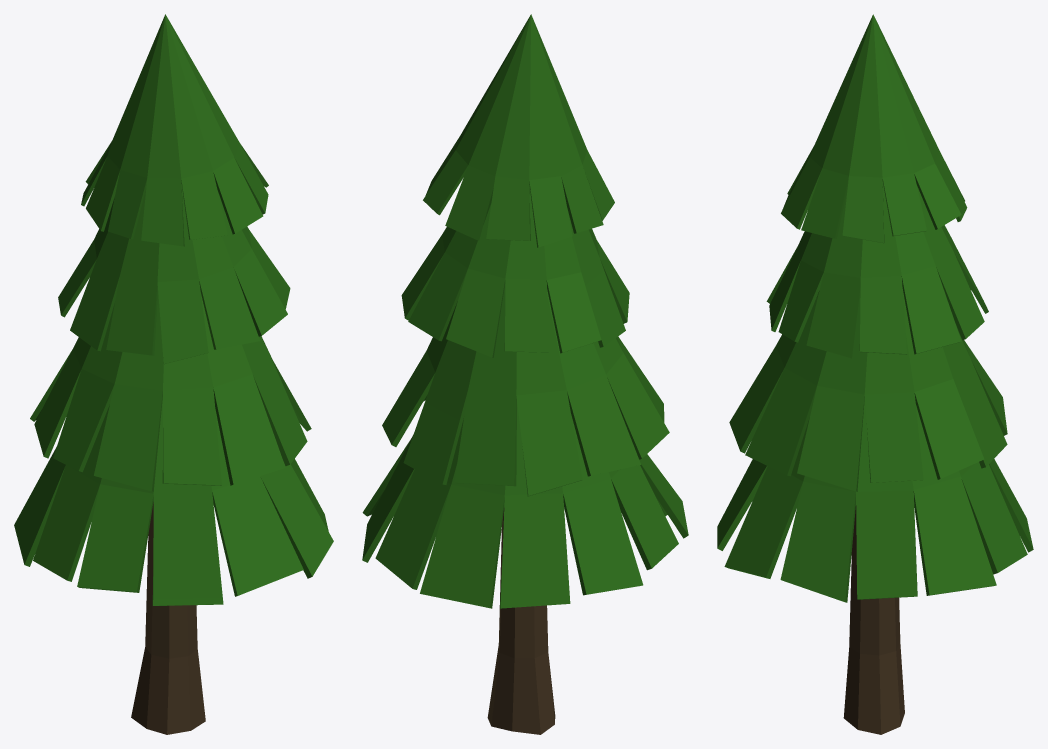
Rendered from Planta_Pino_012.fbx.
3 views of the same model, side by side, from view 1: azimuth 30°, elevation 25°; view 2: azimuth 150°, elevation 25°; view 3: azimuth 270°, elevation 25° (orthographic).
Visible parts, largest first — view 1: Tree2; view 2: Tree2; view 3: Tree2.
Part boxes in pixels (x1=…): Tree2: x1=14, y1=14, x2=333, y2=734; Tree2: x1=362, y1=14, x2=688, y2=734; Tree2: x1=717, y1=14, x2=1033, y2=734.
Bounding box in the file's own units: 153 × 380 × 155.
2 materials, 2 textured.
